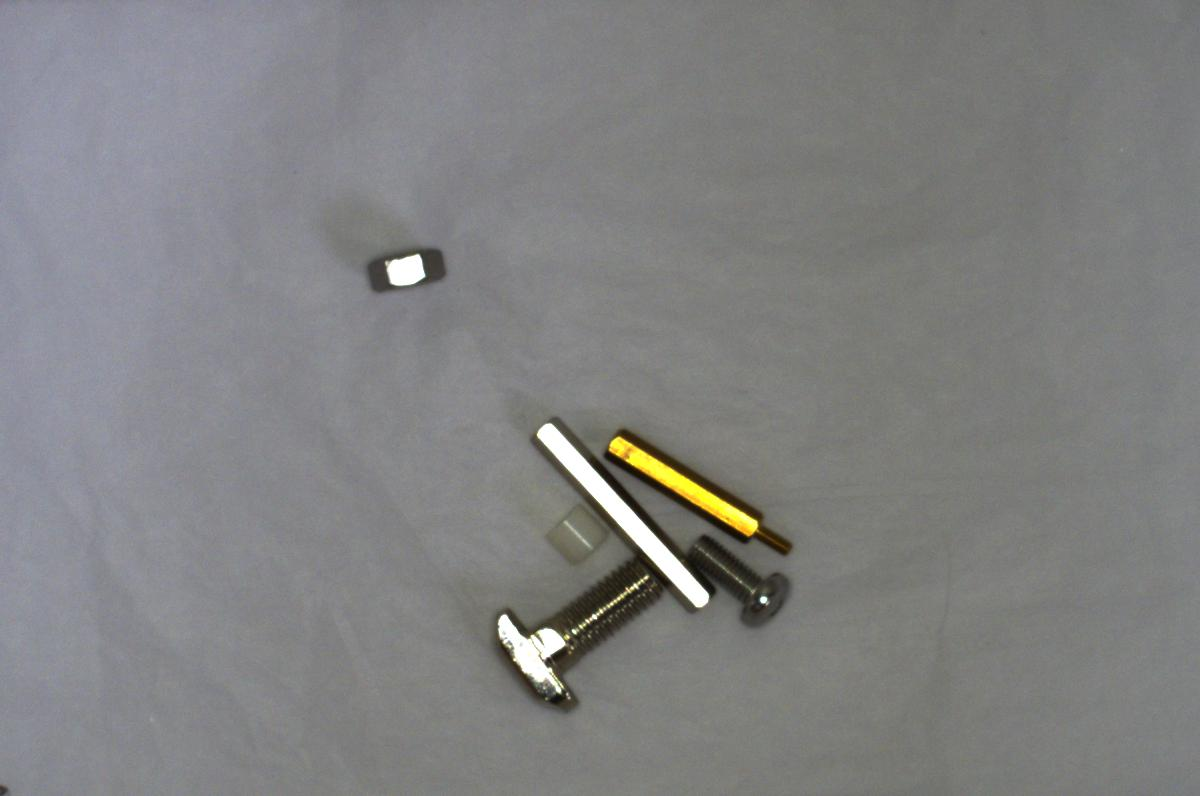Double hexagonal column: (520, 414, 713, 619)
Hexagon nut: (360, 233, 450, 299)
Hexagon pillar: (597, 426, 800, 558)
Plastic cushion pillar: (533, 498, 615, 570)
Round head screw: (675, 525, 804, 627)
T-shaped screw: (480, 561, 665, 712)
